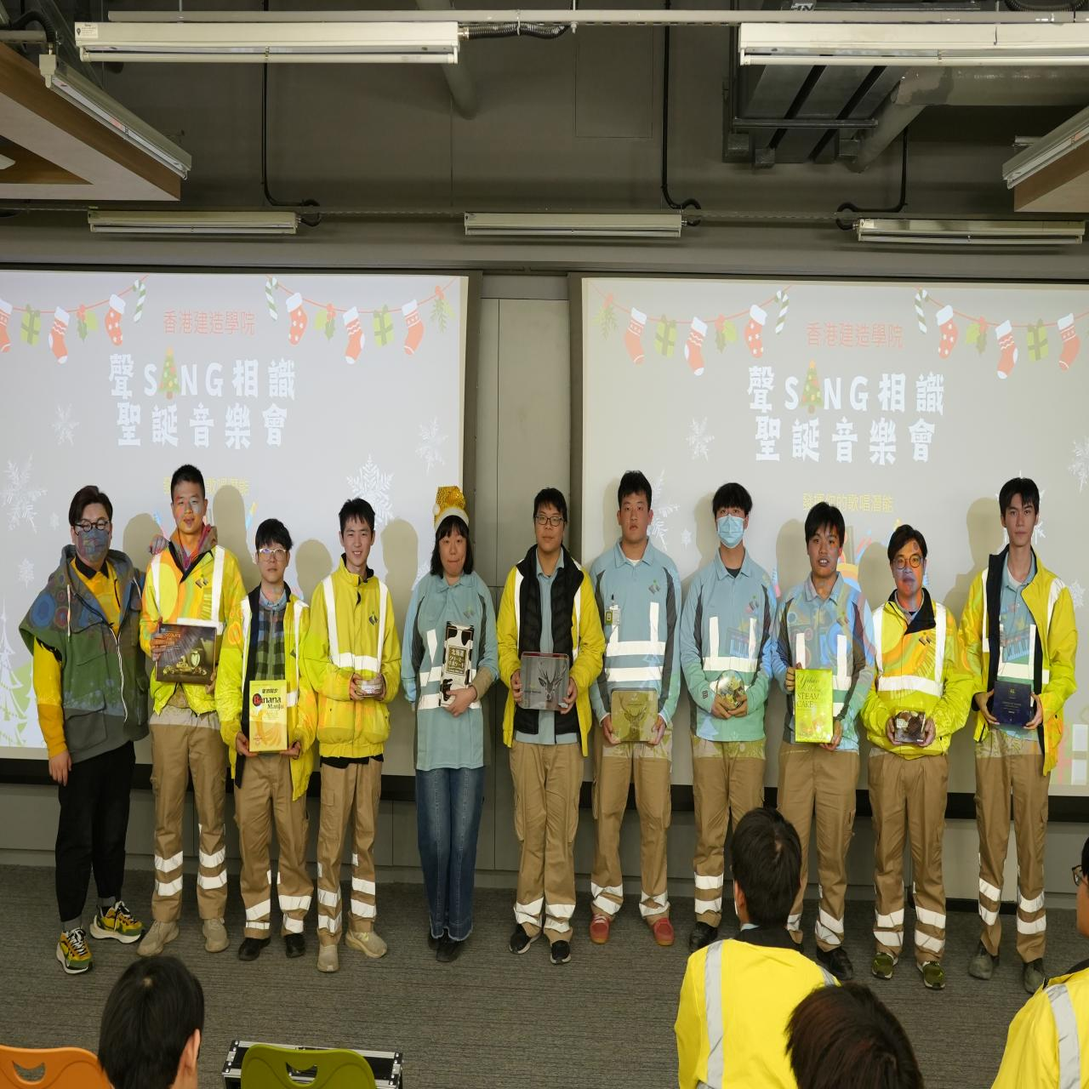NO_Safety_Vest: (680, 932, 837, 1089), (21, 560, 144, 756), (962, 548, 1076, 756), (500, 553, 601, 758), (135, 539, 241, 729), (680, 548, 783, 742), (861, 597, 974, 773), (215, 590, 314, 781), (403, 569, 496, 765), (304, 569, 399, 756), (775, 576, 879, 742), (584, 543, 676, 717), (994, 960, 1089, 1089)
Person: (22, 472, 160, 989), (127, 453, 258, 971), (951, 466, 1080, 988), (847, 512, 980, 989), (577, 455, 694, 972), (490, 477, 607, 974), (391, 475, 506, 971), (677, 463, 785, 953), (299, 480, 404, 975), (774, 491, 880, 977), (210, 504, 320, 969), (675, 802, 846, 1089), (982, 805, 1089, 1089), (75, 929, 220, 1089)
